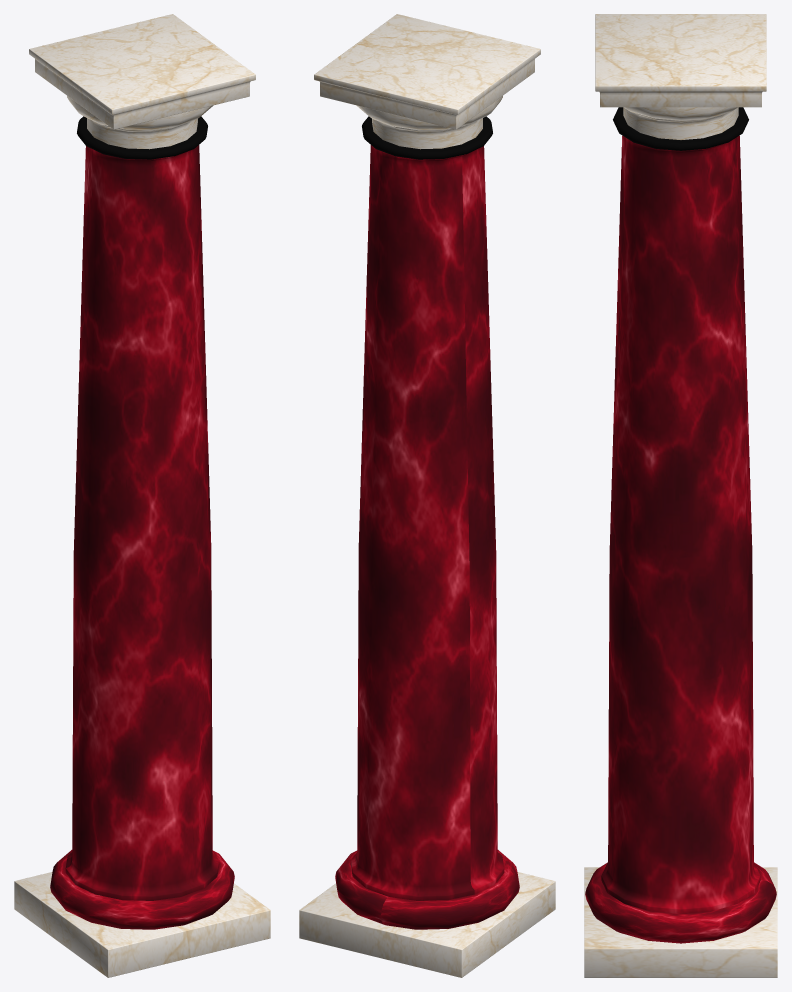
File: ColumnMarbleRed.fbx
3 views of the same model, side by side, from view 1: azimuth 30°, elevation 25°; view 2: azimuth 150°, elevation 25°; view 3: azimuth 270°, elevation 25° (orthographic). The views are drawn at different scales.
Visible parts, largest first — view 1: polySurface9; view 2: polySurface9; view 3: polySurface9.
Part boxes in pixels (bbox=[...]): polySurface9: bbox=[14, 14, 270, 977]; polySurface9: bbox=[299, 14, 555, 977]; polySurface9: bbox=[584, 14, 777, 977].
Bounding box in the file's own units: 0.018 × 0.091 × 0.018.
